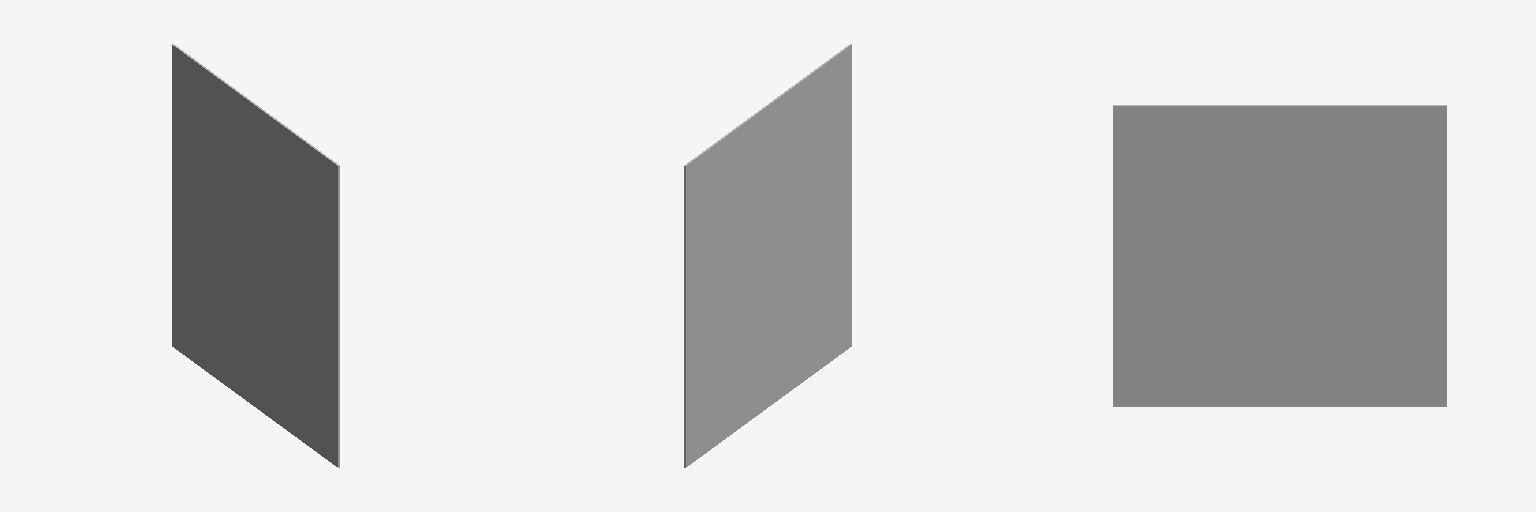
The model's file is Wall.obj.
3 views of the same model, side by side, from view 1: azimuth 30°, elevation 25°; view 2: azimuth 150°, elevation 25°; view 3: azimuth 270°, elevation 25° (orthographic).
Visible parts, largest first — view 1: Plane001_Plane001_Material__28; view 2: Plane001_Plane001_Material__28; view 3: Plane001_Plane001_Material__28.
Part boxes in pixels (x1,y1,x2,y2): Plane001_Plane001_Material__28: (172,44,339,467); Plane001_Plane001_Material__28: (684,44,851,467); Plane001_Plane001_Material__28: (1113,105,1446,406).
Size of the model in its own units: 0.0635 by 10 by 10.